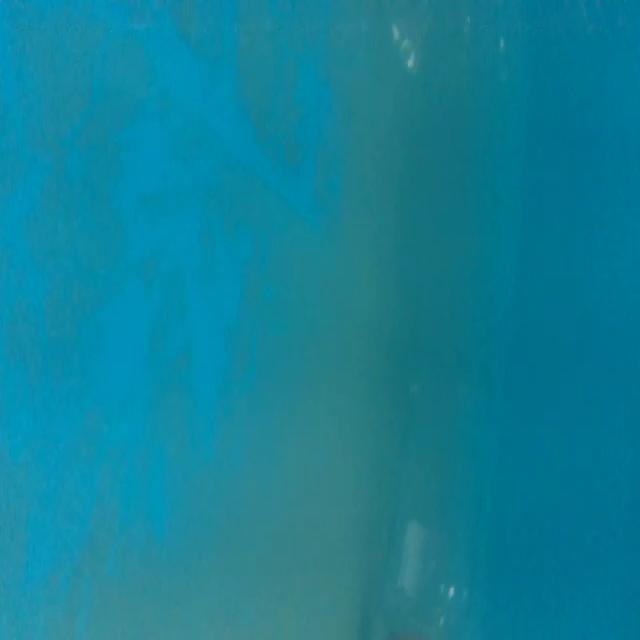plastic bottle: (373, 379, 482, 640)
